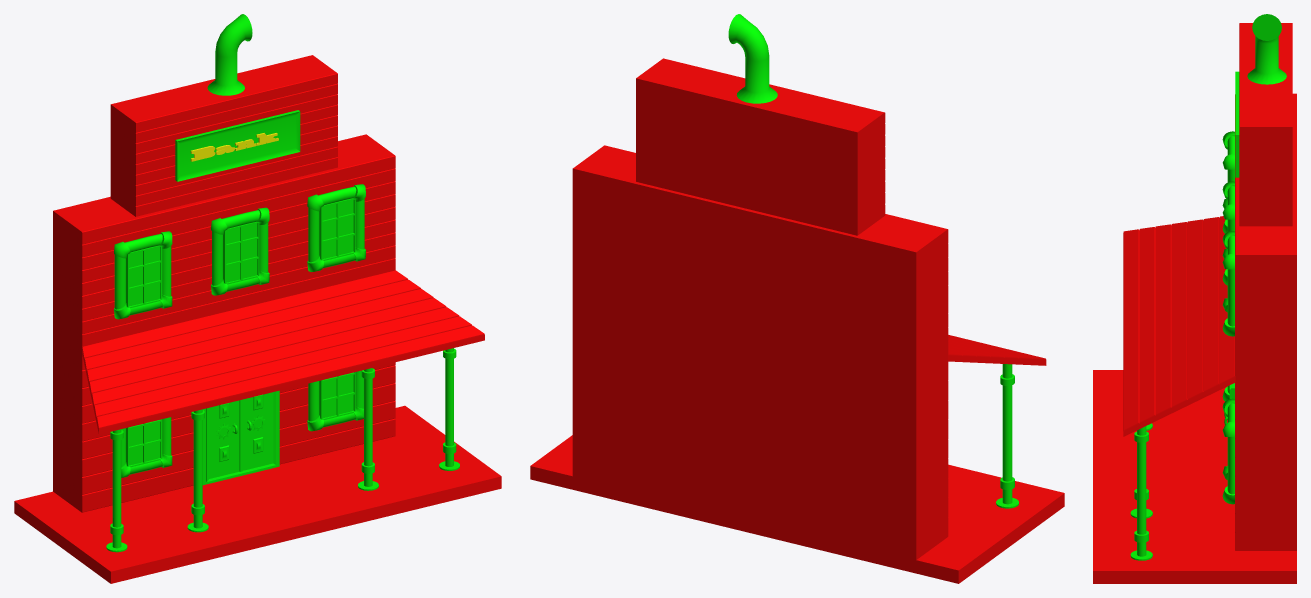
File: Bank UVs.obj
3 renders of one model, left to right at view 1: azimuth 30°, elevation 25°; view 2: azimuth 150°, elevation 25°; view 3: azimuth 270°, elevation 25°, orthographic. The views are drawn at different scales.
Parts seen in each view (by area): view 1: pCube1, pCube2, pCube4, pasted__pTorus1 group7, pasted__pasted__pTorus1 pasted__group7 group8, pasted__pasted__pTorus1 pasted__group7 group9, group7 pasted__pCube5, pasted__group7 group9 pasted__pasted__pCube5, pasted__group7 group8 pasted__pasted__pCube5, pTorus2, pCube5, group6 pasted__pCube5 (+8 smaller); view 2: pCube1, pTorus2, pPipe1; view 3: pCube1, pTorus2, pasted__pPipe1 group2, pasted__pTorus1 group6, pasted__pasted__pTorus1 pasted__group7 group8, pasted__pasted__pTorus1 pasted__group7 group9, pasted__pTorus1 group7, pCube4.
Boxes of the visible parts, x1=… form: pCube1: x1=14, y1=55, x2=501, y2=583; pCube2: x1=206, y1=391, x2=275, y2=481; pCube4: x1=175, y1=110, x2=300, y2=181; pasted__pTorus1 group7: x1=114, y1=231, x2=172, y2=319; pasted__pasted__pTorus1 pasted__group7 group8: x1=307, y1=184, x2=365, y2=272; pasted__pasted__pTorus1 pasted__group7 group9: x1=211, y1=207, x2=269, y2=295; group7 pasted__pCube5: x1=126, y1=245, x2=162, y2=308; pasted__group7 group9 pasted__pasted__pCube5: x1=223, y1=221, x2=259, y2=284; pasted__group7 group8 pasted__pasted__pCube5: x1=319, y1=198, x2=355, y2=260; pTorus2: x1=207, y1=14, x2=252, y2=95; pCube5: x1=126, y1=419, x2=162, y2=467; group6 pasted__pCube5: x1=319, y1=372, x2=355, y2=419; pCube1: x1=530, y1=58, x2=1064, y2=583; pTorus2: x1=728, y1=14, x2=777, y2=103; pPipe1: x1=996, y1=364, x2=1018, y2=508; pCube1: x1=1093, y1=23, x2=1296, y2=583; pTorus2: x1=1247, y1=14, x2=1286, y2=84; pasted__pPipe1 group2: x1=1130, y1=426, x2=1152, y2=560; pasted__pTorus1 group6: x1=1222, y1=398, x2=1234, y2=504; pasted__pasted__pTorus1 pasted__group7 group8: x1=1222, y1=231, x2=1234, y2=336; pasted__pasted__pTorus1 pasted__group7 group9: x1=1222, y1=181, x2=1234, y2=285; pasted__pTorus1 group7: x1=1222, y1=131, x2=1234, y2=233; pCube4: x1=1235, y1=71, x2=1239, y2=177.
Bounding box in the file's own units: 10.1 × 11.25 × 4.33.
